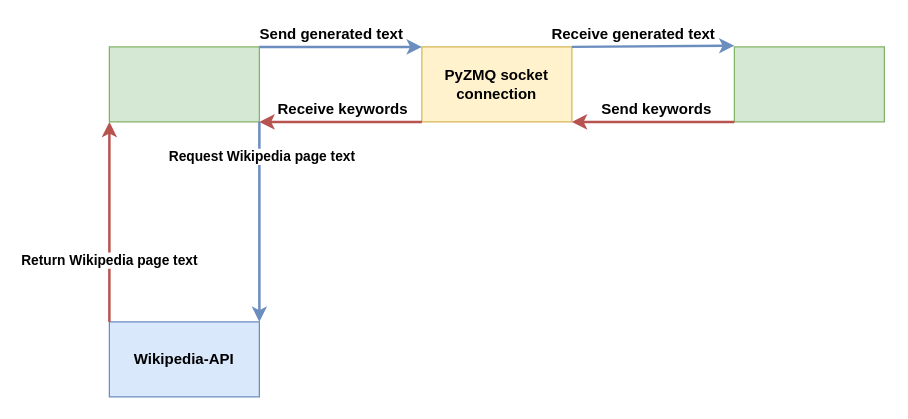
This 908x419 diagram has some shape labels left out. Here are the shapes that lost their labels. From the top down, the box of each, then its label:
(108, 46, 259, 122): Content Generator Microservice
(733, 46, 884, 122): External Microservice
